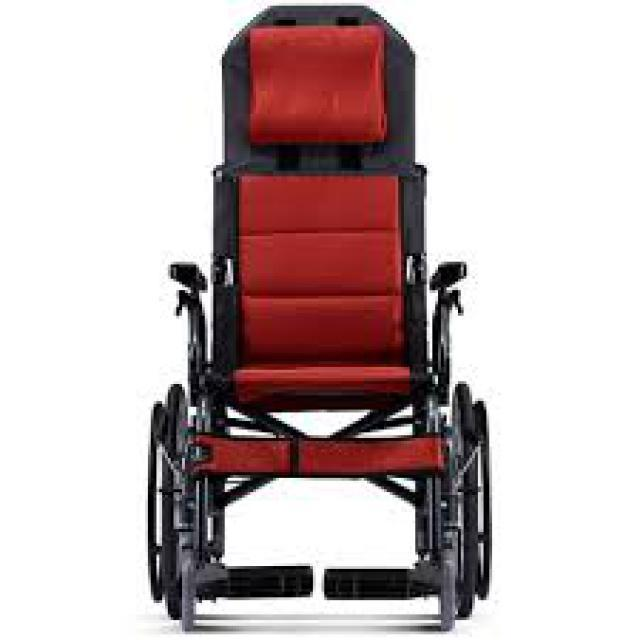wheelchairs: (155, 11, 495, 628)
